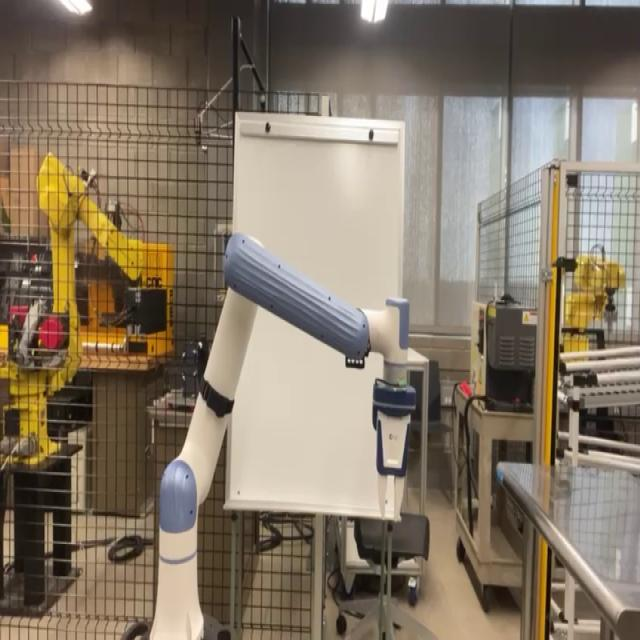robot: (121, 226, 425, 634)
